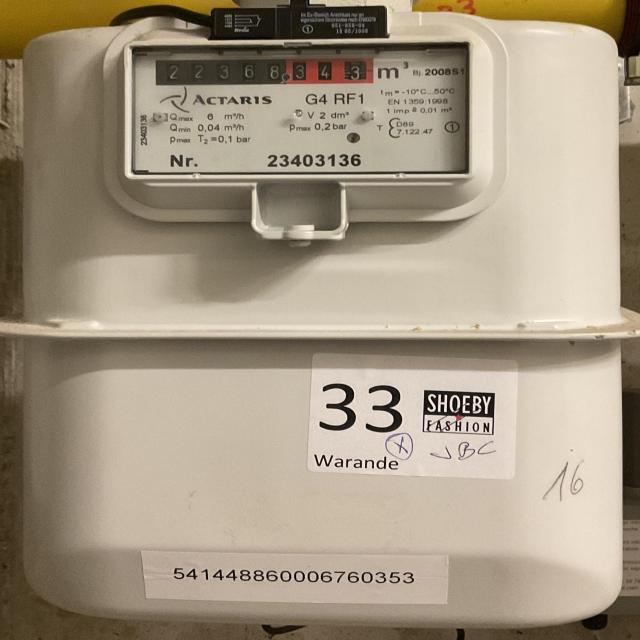gaz_meter: (132, 44, 469, 174)
indication: (152, 58, 376, 85)
